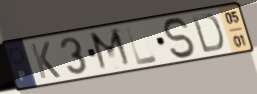3: (58, 36, 89, 77)
D: (189, 12, 226, 55)
K: (28, 40, 63, 81)
L: (123, 24, 160, 67)
M: (87, 26, 135, 74)
S: (161, 16, 199, 61)
